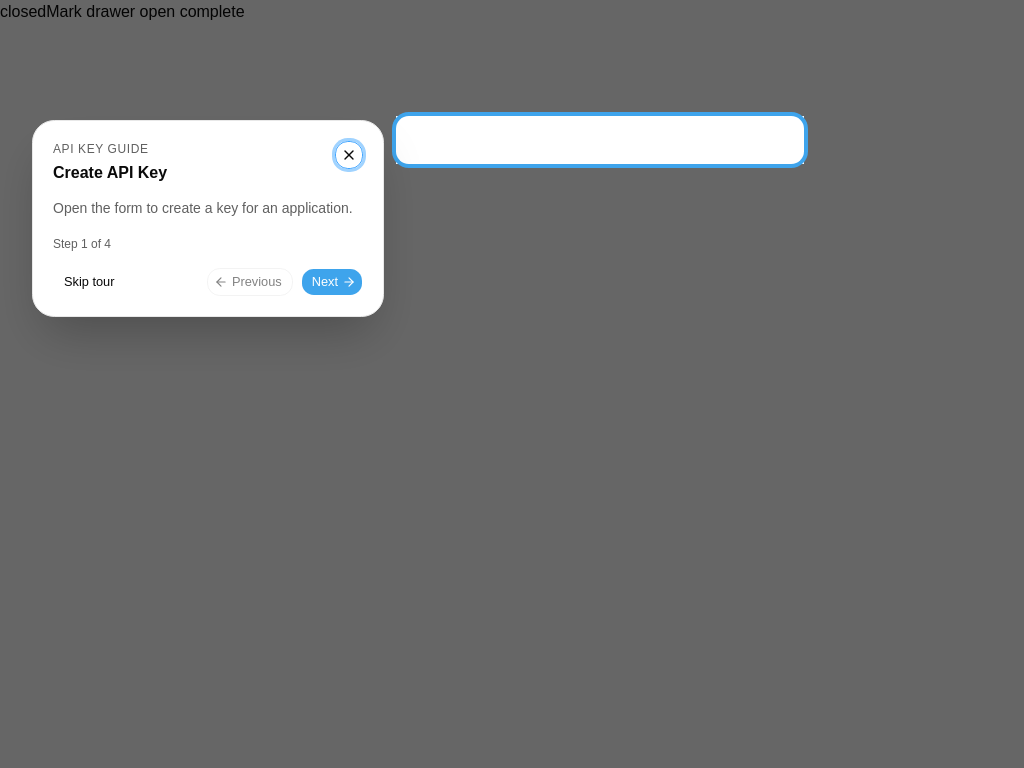
Test case: ApiKeysTour › opens the create form when advancing from the first step
This screenshot has width=1024, height=768.
Click the button "Next" at (332, 282), box [301,268,363,296]
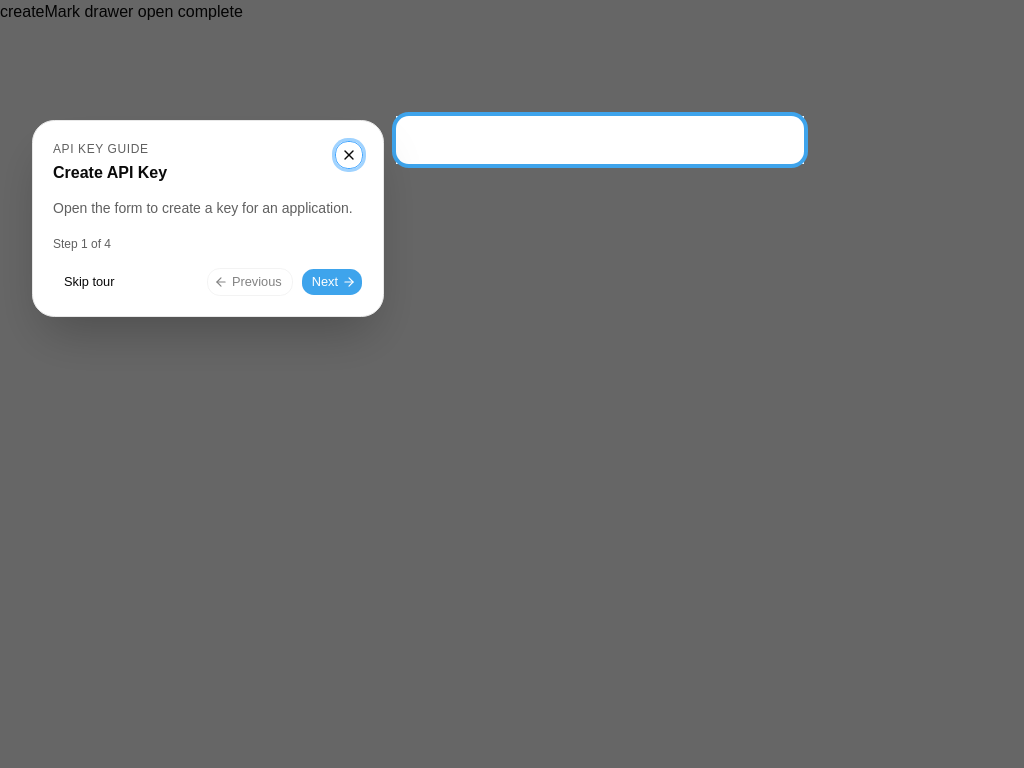
Check: the text with test id "dialog-state" reads "create", box [0,3,44,20]
